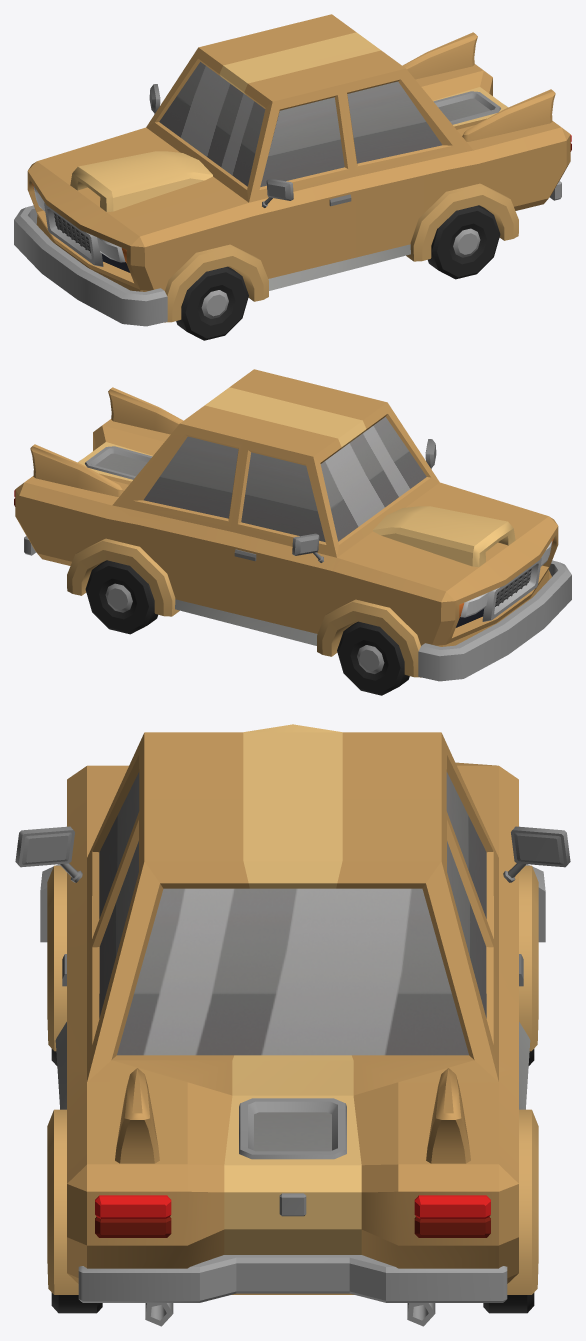
The model's file is Car_10_Q.fbx.
3 views of the same model, one above another, from view 1: azimuth 30°, elevation 25°; view 2: azimuth 150°, elevation 25°; view 3: azimuth 270°, elevation 25° (orthographic). The views are drawn at different scales.
Parts seen in each view (by area): view 1: Car_10_Q, RL, FL; view 2: Car_10_Q, RR, FR; view 3: Car_10_Q, RL, RR.
Part boxes in pixels (<box>): Car_10_Q: <box>14,14,571,326</box>; RL: <box>428,205,500,279</box>; FL: <box>176,266,248,340</box>; Car_10_Q: <box>14,369,571,681</box>; RR: <box>85,560,157,634</box>; FR: <box>337,621,409,695</box>; Car_10_Q: <box>15,724,570,1326</box>; RL: <box>51,1293,102,1313</box>; RR: <box>483,1293,534,1313</box>.
Bounding box in the file's own units: 358 × 149 × 185.
